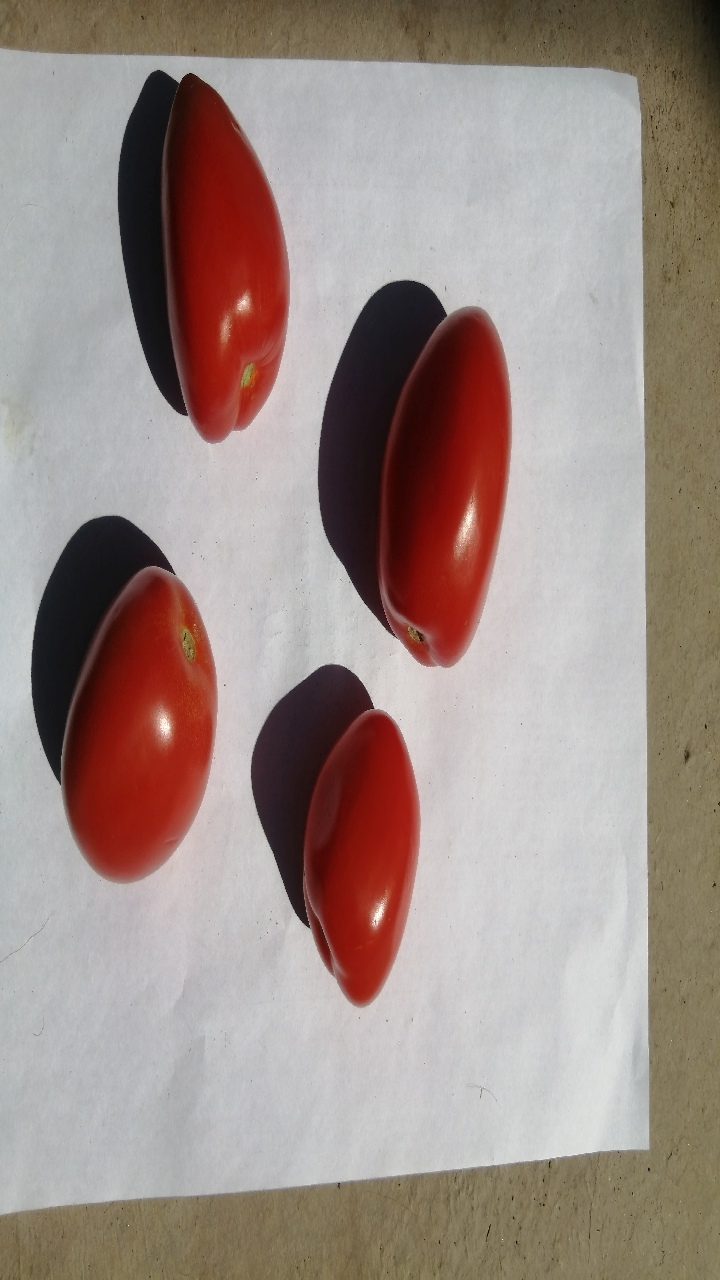tomateRojo: (94, 54, 334, 462), (352, 269, 558, 686), (23, 542, 235, 900), (275, 691, 461, 1023)
